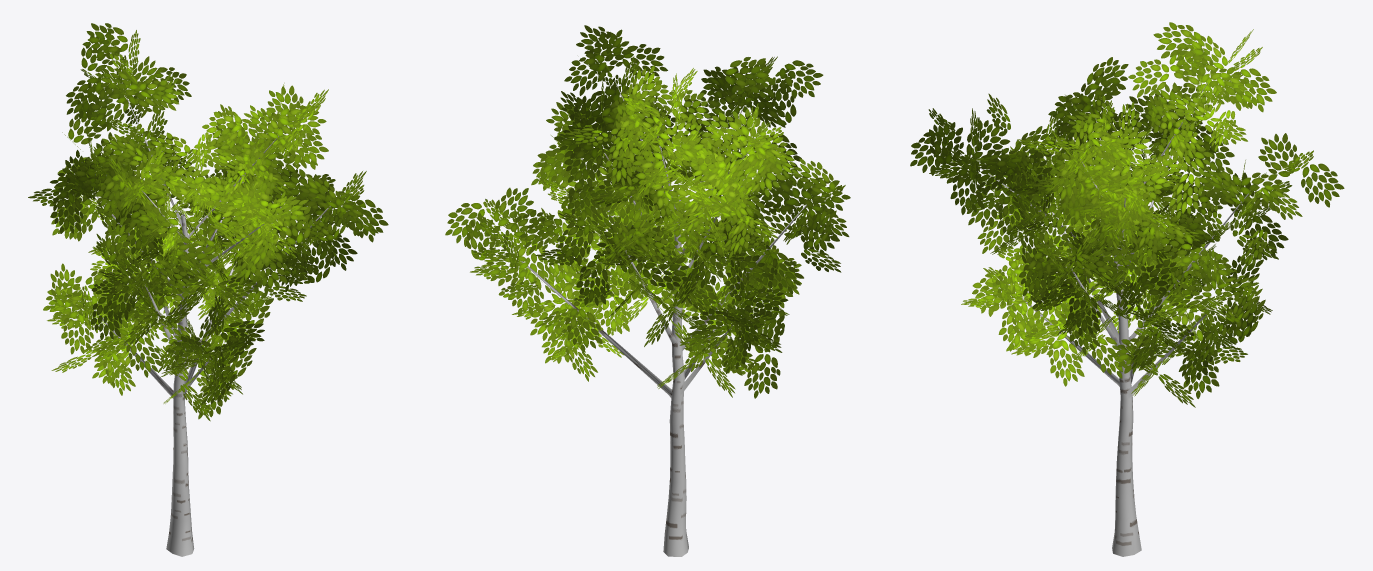
Rendered from Tree03A.glb.
3 views of the same model, side by side, from view 1: azimuth 30°, elevation 25°; view 2: azimuth 150°, elevation 25°; view 3: azimuth 270°, elevation 25° (orthographic). The views are drawn at different scales.
Parts seen in each view (by area): view 1: stylizedTree03; view 2: stylizedTree03; view 3: stylizedTree03.
Boxes of the visible parts, x1,y1,x2,y2 form: stylizedTree03: (28, 23, 388, 556); stylizedTree03: (445, 25, 850, 556); stylizedTree03: (910, 22, 1344, 556).
Bounding box in the file's own units: 13.67 × 19.68 × 15.72.
2 materials, 2 textured.
